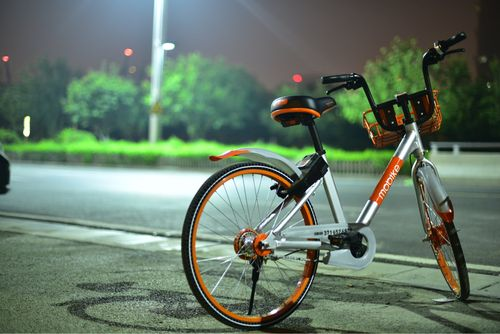单车: (178, 22, 495, 334)
